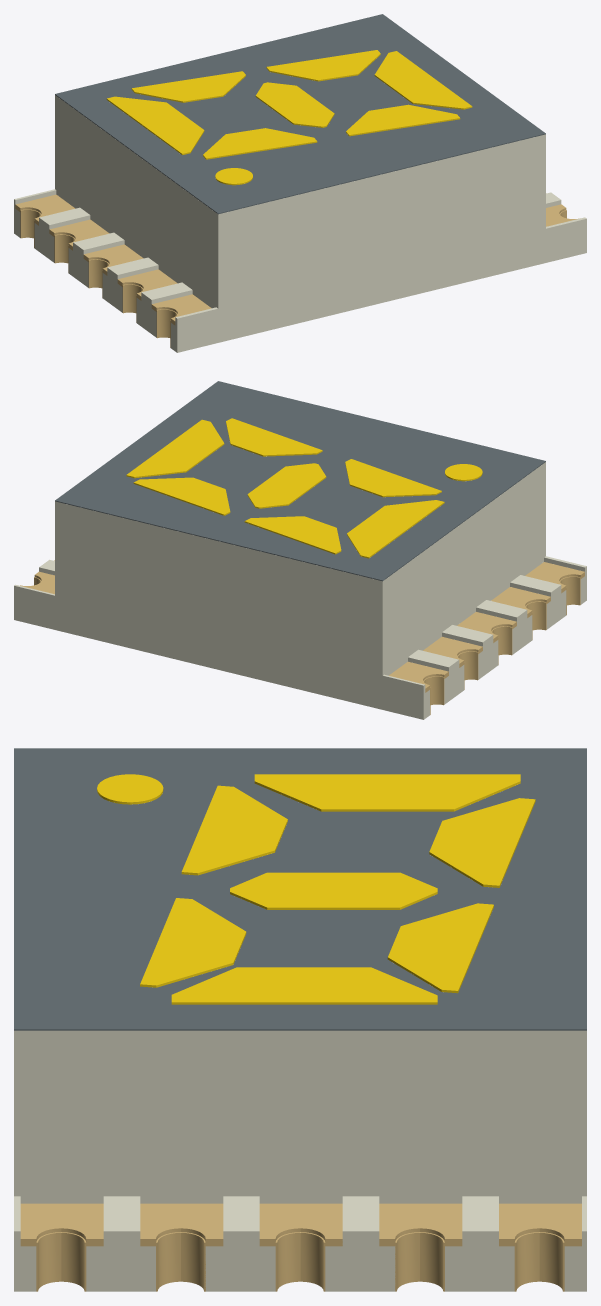
The model's file is kc-kcsc02-107.glb.
3 views of the same model, one above another, from view 1: azimuth 30°, elevation 25°; view 2: azimuth 150°, elevation 25°; view 3: azimuth 270°, elevation 25° (orthographic). The views are drawn at different scales.
Parts seen in each view (by area): view 1: 0.75_0.75_0.6666666666666666_0, 0.16666666666666666_0.16666666666666666_0.16666666666666666_, 0.9166666666666666_0.6666666666666666_0_0, 0.75_0.5_0.25_0.9; view 2: 0.75_0.75_0.6666666666666666_0, 0.16666666666666666_0.16666666666666666_0.16666666666666666_, 0.9166666666666666_0.6666666666666666_0_0, 0.75_0.5_0.25_0.9; view 3: 0.75_0.75_0.6666666666666666_0, 0.16666666666666666_0.16666666666666666_0.16666666666666666_, 0.9166666666666666_0.6666666666666666_0_0, 0.75_0.5_0.25_0.9.
Part boxes in pixels (x1=…): 0.75_0.75_0.6666666666666666_0: x1=14, y1=95, x2=586, y2=352; 0.16666666666666666_0.16666666666666666_0.16666666666666666_: x1=55, y1=14, x2=545, y2=214; 0.9166666666666666_0.6666666666666666_0_0: x1=106, y1=50, x2=472, y2=185; 0.75_0.5_0.25_0.9: x1=15, y1=194, x2=578, y2=347; 0.75_0.75_0.6666666666666666_0: x1=14, y1=462, x2=586, y2=719; 0.16666666666666666_0.16666666666666666_0.16666666666666666_: x1=55, y1=381, x2=545, y2=581; 0.9166666666666666_0.6666666666666666_0_0: x1=126, y1=418, x2=482, y2=558; 0.75_0.5_0.25_0.9: x1=20, y1=560, x2=584, y2=714; 0.75_0.75_0.6666666666666666_0: x1=14, y1=1030, x2=586, y2=1291; 0.16666666666666666_0.16666666666666666_0.16666666666666666_: x1=14, y1=748, x2=586, y2=1030; 0.9166666666666666_0.6666666666666666_0_0: x1=97, y1=774, x2=535, y2=1004; 0.75_0.5_0.25_0.9: x1=20, y1=1203, x2=581, y2=1291.
Size of the model in its own units: 1 by 0.305 by 0.69.
